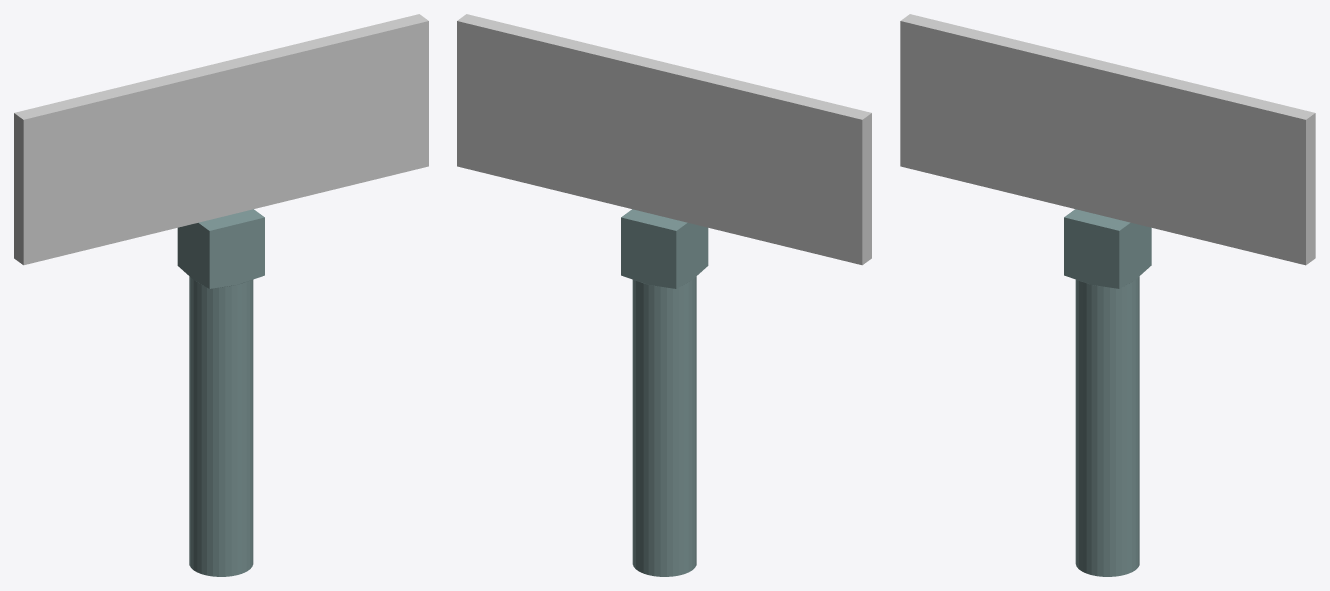
The model's file is rig.gltf.
The picture shows the model from 3 angles, left to right: view 1: azimuth 30°, elevation 25°; view 2: azimuth 150°, elevation 25°; view 3: azimuth 330°, elevation 25°; orthographic projection.
Visible parts, largest first — view 1: Cylinder.001; view 2: Cylinder.001; view 3: Cylinder.001.
Part boxes in pixels (x1,y1,x2,y2): Cylinder.001: (14, 14, 428, 576); Cylinder.001: (457, 14, 871, 576); Cylinder.001: (900, 14, 1315, 576).
Size of the model in its own units: 14.62 by 17.1 by 2.
